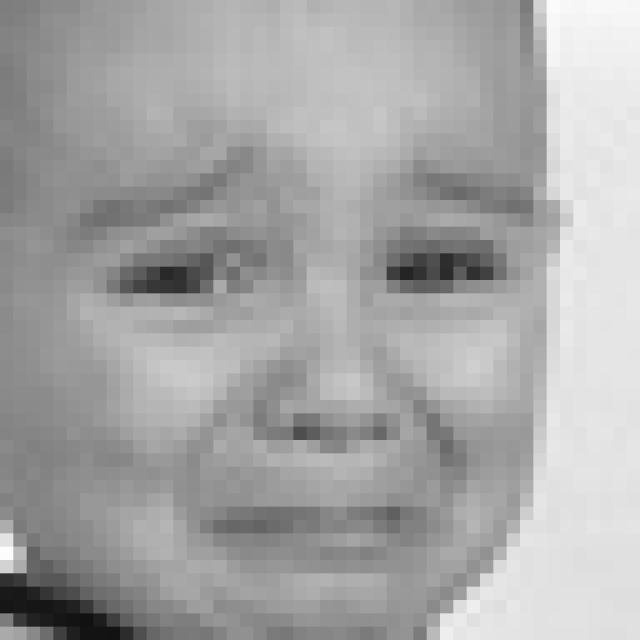sad: (51, 135, 531, 578)
